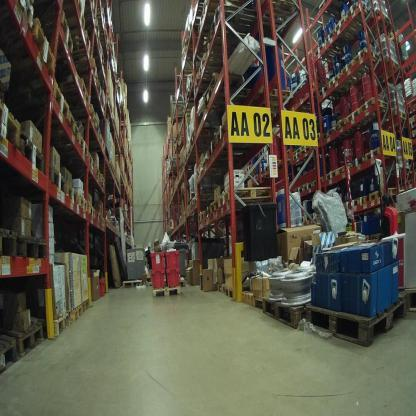pallets: (300, 295, 409, 347), (0, 111, 46, 179), (0, 317, 47, 381), (322, 45, 373, 97), (321, 143, 382, 185), (257, 293, 309, 342), (323, 96, 381, 139), (51, 161, 90, 219), (319, 3, 359, 48), (49, 300, 94, 338), (197, 188, 234, 226), (345, 188, 399, 212), (214, 281, 255, 307), (232, 186, 272, 202), (287, 179, 319, 196), (151, 287, 181, 297), (120, 279, 143, 288)
